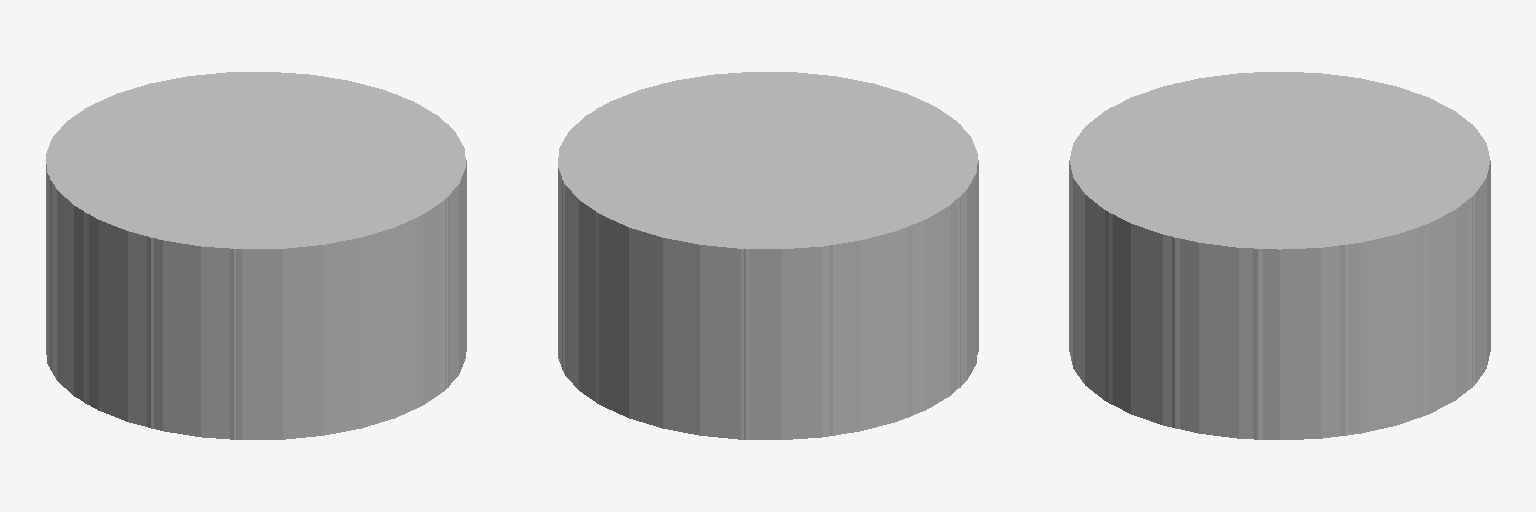
File: Cilindro fullPoly.obj
The picture shows the model from 3 angles: view 1: azimuth 30°, elevation 25°; view 2: azimuth 150°, elevation 25°; view 3: azimuth 270°, elevation 25°; orthographic projection.
Parts seen in each view (by area): view 1: Cylinder_Visible_Cylinder.004, Cylinder_Invisible_Cylinder.003; view 2: Cylinder_Visible_Cylinder.004, Cylinder_Invisible_Cylinder.003; view 3: Cylinder_Visible_Cylinder.004, Cylinder_Invisible_Cylinder.003.
Part boxes in pixels (bbox=[...]): Cylinder_Visible_Cylinder.004: bbox=[46, 72, 465, 439]; Cylinder_Invisible_Cylinder.003: bbox=[50, 74, 466, 439]; Cylinder_Visible_Cylinder.004: bbox=[558, 72, 977, 439]; Cylinder_Invisible_Cylinder.003: bbox=[562, 72, 978, 439]; Cylinder_Visible_Cylinder.004: bbox=[1069, 72, 1490, 439]; Cylinder_Invisible_Cylinder.003: bbox=[1074, 72, 1481, 439].
Size of the model in its own units: 2 by 1 by 2.